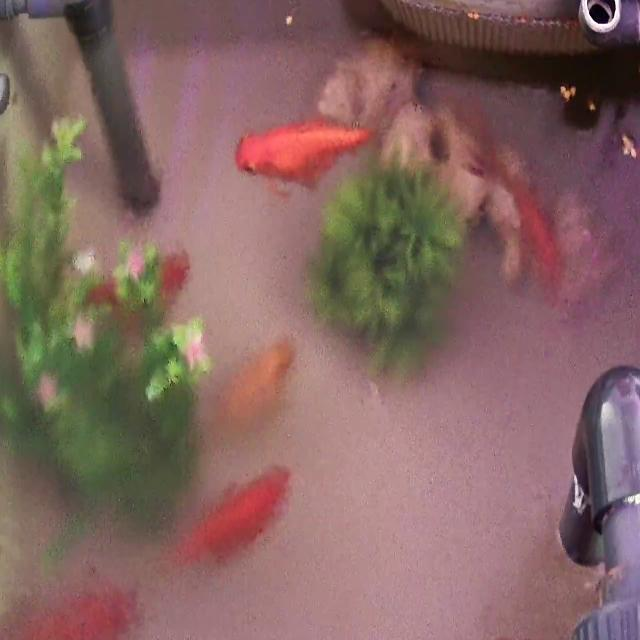fish: (171, 463, 295, 568), (235, 119, 359, 190), (0, 580, 141, 640), (217, 338, 296, 434), (504, 172, 566, 290)
